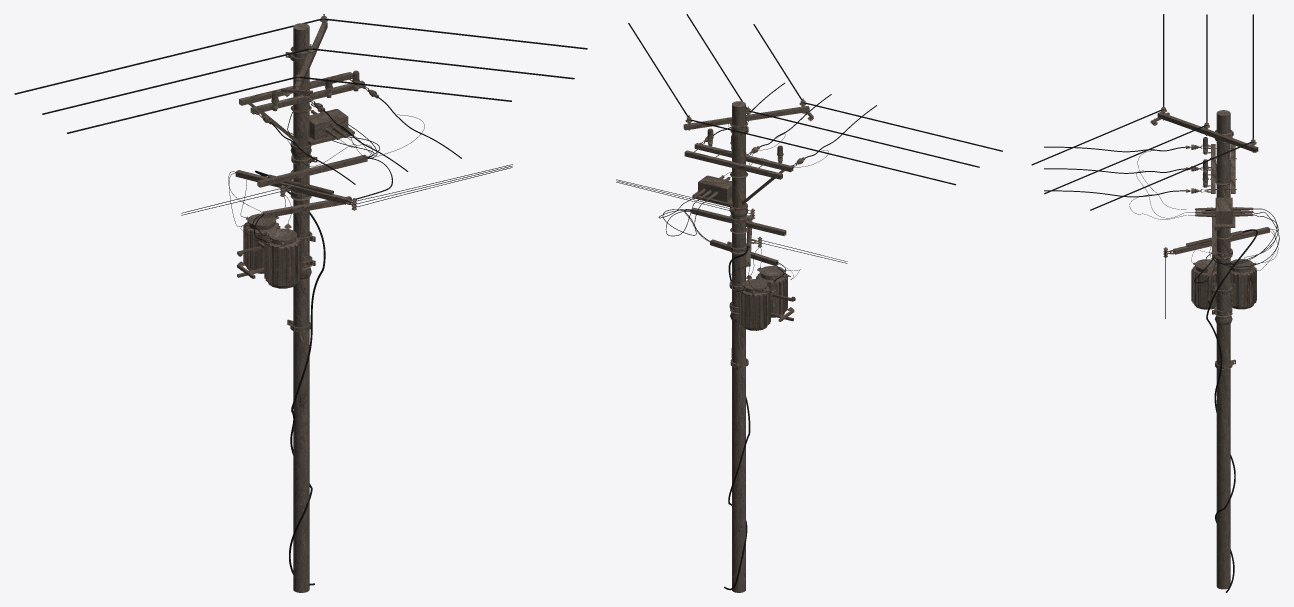
File: palo_luce.fbx
The picture shows the model from 3 angles, left to right: view 1: azimuth 30°, elevation 25°; view 2: azimuth 150°, elevation 25°; view 3: azimuth 270°, elevation 25°; orthographic projection. The views are drawn at different scales.
Visible parts, largest first — view 1: Left, Cables; view 2: Left, Cables; view 3: Left, Cables.
Boxes of the visible parts, x1=… form: Left: x1=235, y1=14, x2=378, y2=592; Cables: x1=14, y1=18, x2=587, y2=585; Left: x1=683, y1=98, x2=813, y2=592; Cables: x1=616, y1=14, x2=1002, y2=590; Left: x1=1150, y1=105, x2=1269, y2=589; Cables: x1=1031, y1=14, x2=1279, y2=592.
Bounding box in the file's own units: 698 × 788 × 374.
2 materials, 2 textured.
